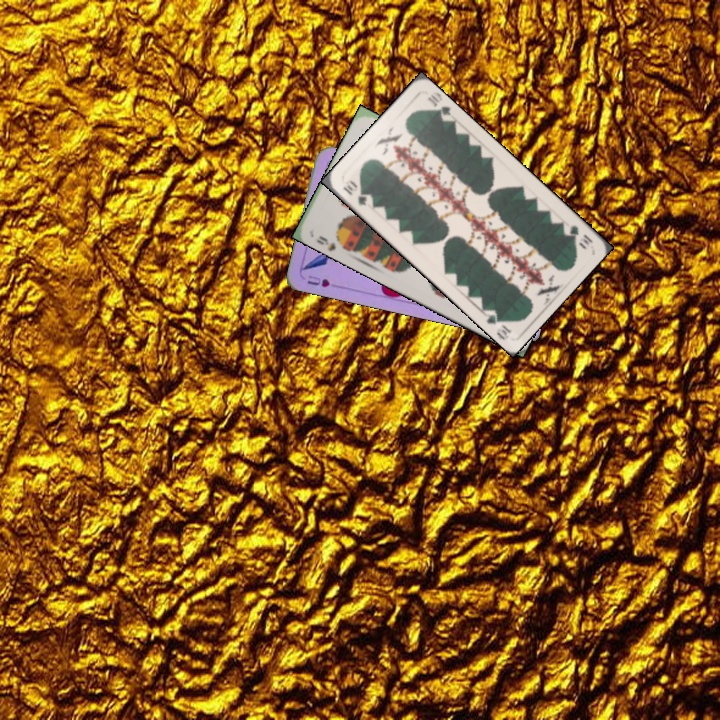G10: (339, 176, 370, 208), (564, 221, 596, 252)
HU: (303, 271, 333, 290)
S9: (312, 232, 339, 253)
